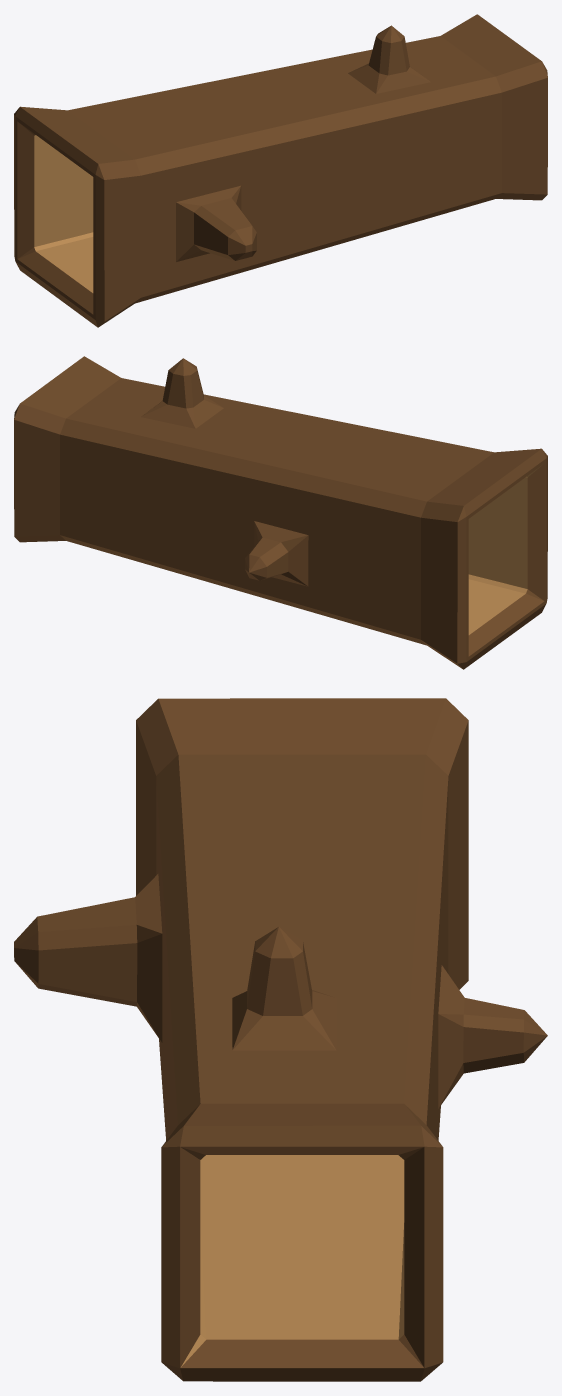
File: fallen_log.glb
The picture shows the model from 3 angles, top to bottom: view 1: azimuth 30°, elevation 25°; view 2: azimuth 150°, elevation 25°; view 3: azimuth 270°, elevation 25°; orthographic projection. The views are drawn at different scales.
Parts seen in each view (by area): view 1: FallenLog; view 2: FallenLog; view 3: FallenLog.
Boxes of the visible parts, x1,y1,x2,y2 form: FallenLog: (14,14,547,327); FallenLog: (14,356,547,669); FallenLog: (14,698,547,1381).
Bounding box in the file's own units: 3 × 1.24 × 1.64.
